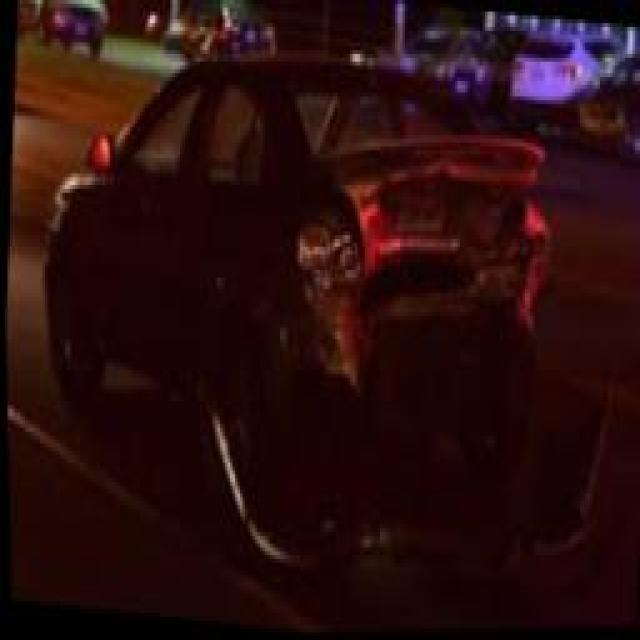Bumper: (255, 294, 527, 428)
Dickey: (303, 136, 542, 300)
Light: (289, 222, 361, 297), (508, 237, 561, 333)
